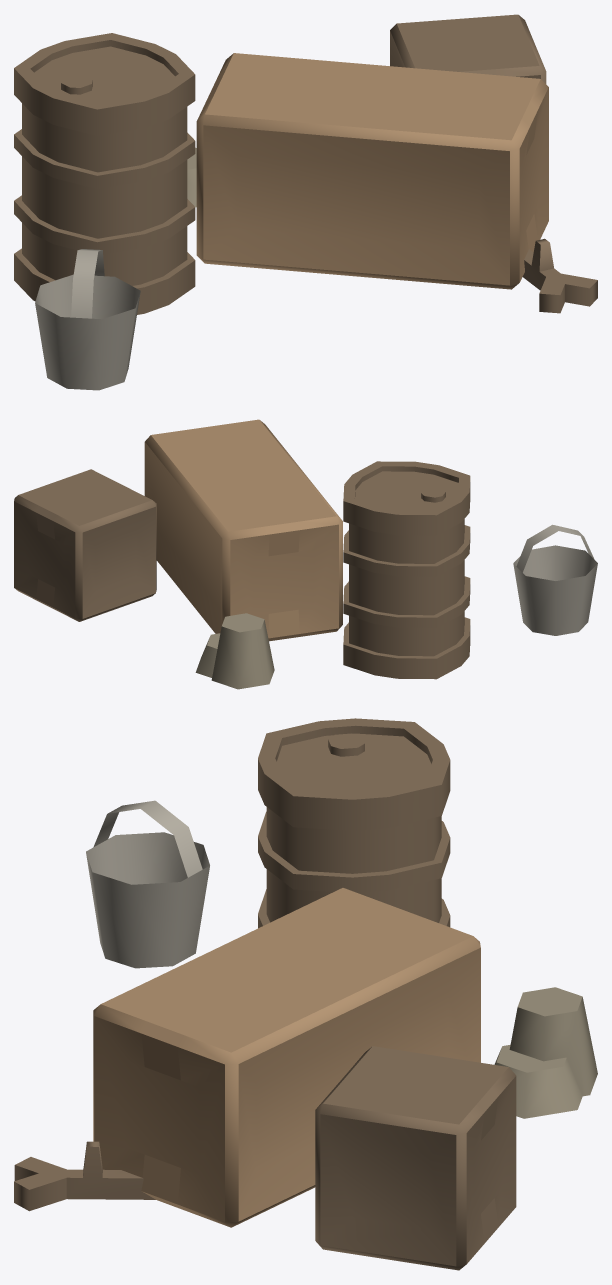
File: forecourt-scatter-set.glb
3 renders of one model, top to bottom at view 1: azimuth 30°, elevation 25°; view 2: azimuth 150°, elevation 25°; view 3: azimuth 270°, elevation 25°, orthographic. The views are drawn at different scales.
Parts seen in each view (by area): view 1: forecourt_item_01_00, forecourt_item_00_00, forecourt_item_03_00, forecourt_item_02_00, forecourt_item_04_00; view 2: forecourt_item_01_00, forecourt_item_00_00, forecourt_item_02_00, forecourt_item_03_00, forecourt_item_05_00; view 3: forecourt_item_01_00, forecourt_item_02_00, forecourt_item_00_00, forecourt_item_03_00, forecourt_item_05_00, forecourt_item_04_00.
Part boxes in pixels (x1=…): forecourt_item_01_00: x1=196, y1=53, x2=548, y2=289; forecourt_item_00_00: x1=14, y1=33, x2=195, y2=314; forecourt_item_03_00: x1=35, y1=249, x2=140, y2=390; forecourt_item_02_00: x1=390, y1=14, x2=546, y2=83; forecourt_item_04_00: x1=522, y1=238, x2=597, y2=313; forecourt_item_01_00: x1=144, y1=419, x2=342, y2=641; forecourt_item_00_00: x1=343, y1=461, x2=470, y2=679; forecourt_item_02_00: x1=14, y1=469, x2=156, y2=621; forecourt_item_03_00: x1=513, y1=524, x2=597, y2=635; forecourt_item_05_00: x1=195, y1=613, x2=274, y2=689; forecourt_item_01_00: x1=93, y1=888, x2=480, y2=1227; forecourt_item_02_00: x1=315, y1=1046, x2=516, y2=1270; forecourt_item_00_00: x1=258, y1=718, x2=450, y2=928; forecourt_item_03_00: x1=86, y1=800, x2=209, y2=968; forecourt_item_05_00: x1=494, y1=987, x2=597, y2=1118; forecourt_item_04_00: x1=14, y1=1141, x2=155, y2=1211.
Bounding box in the file's own units: 3.23 × 1.07 × 2.27.
